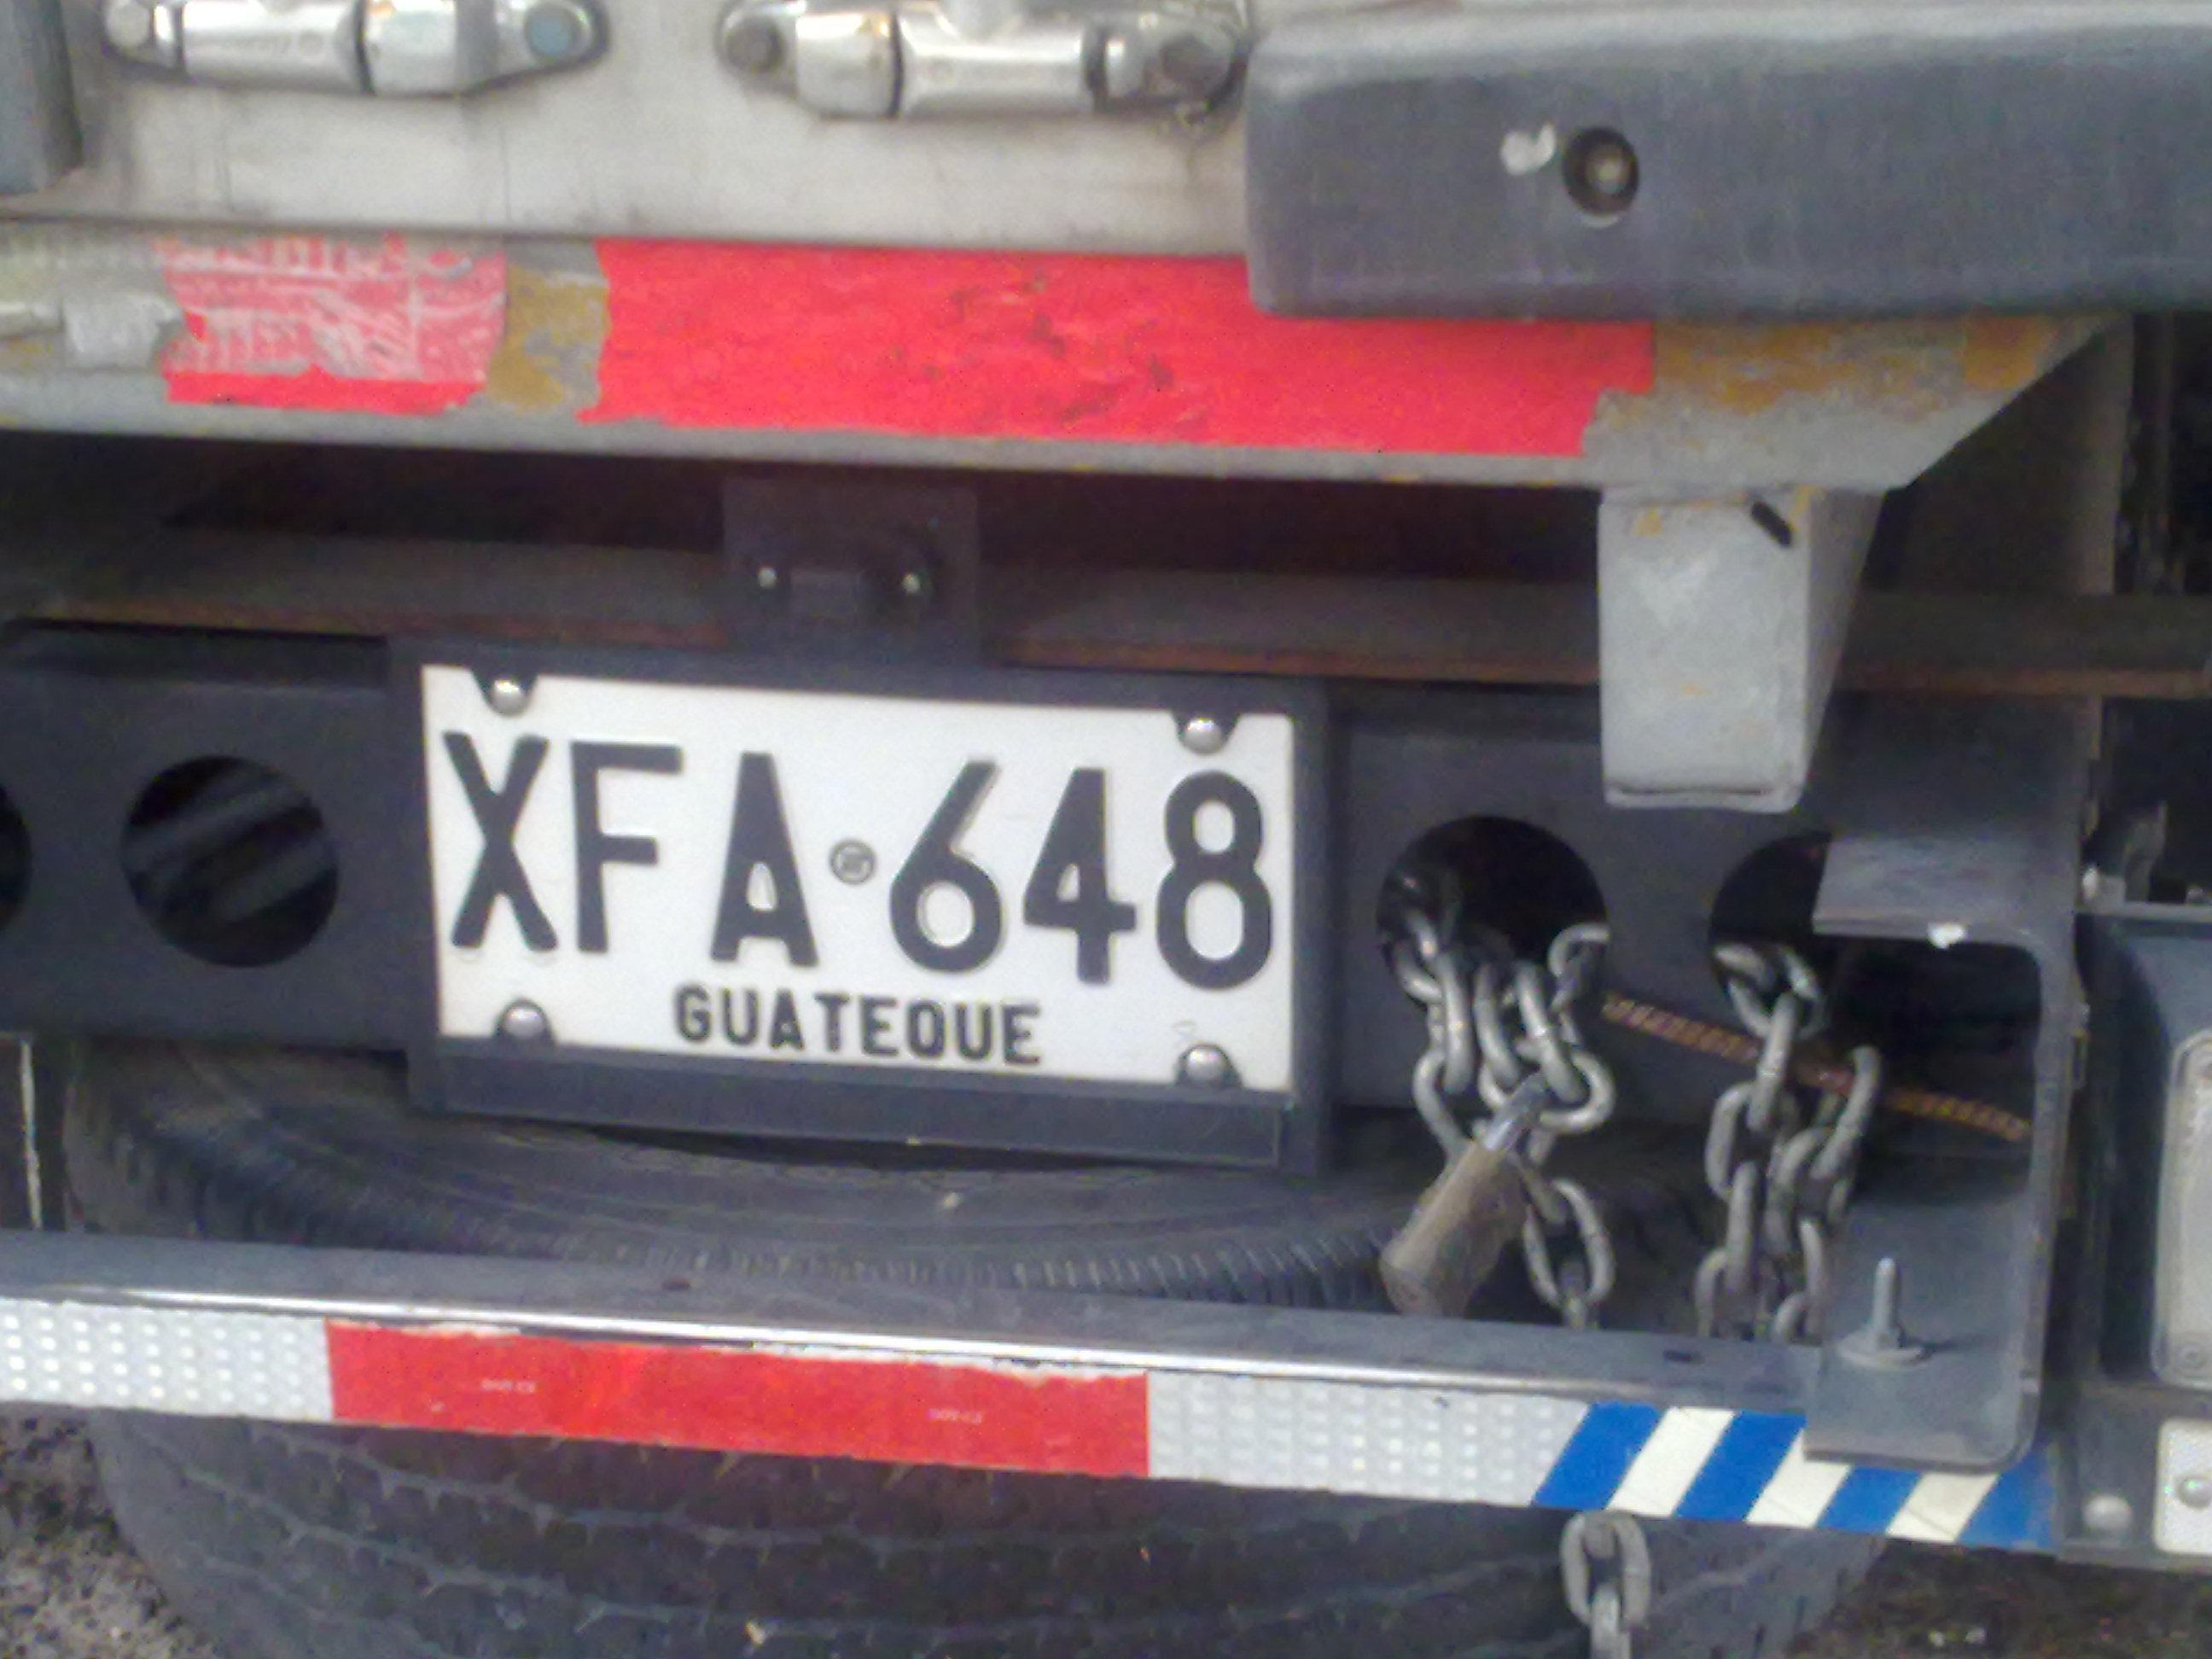placas: (385, 626, 1342, 1166)
